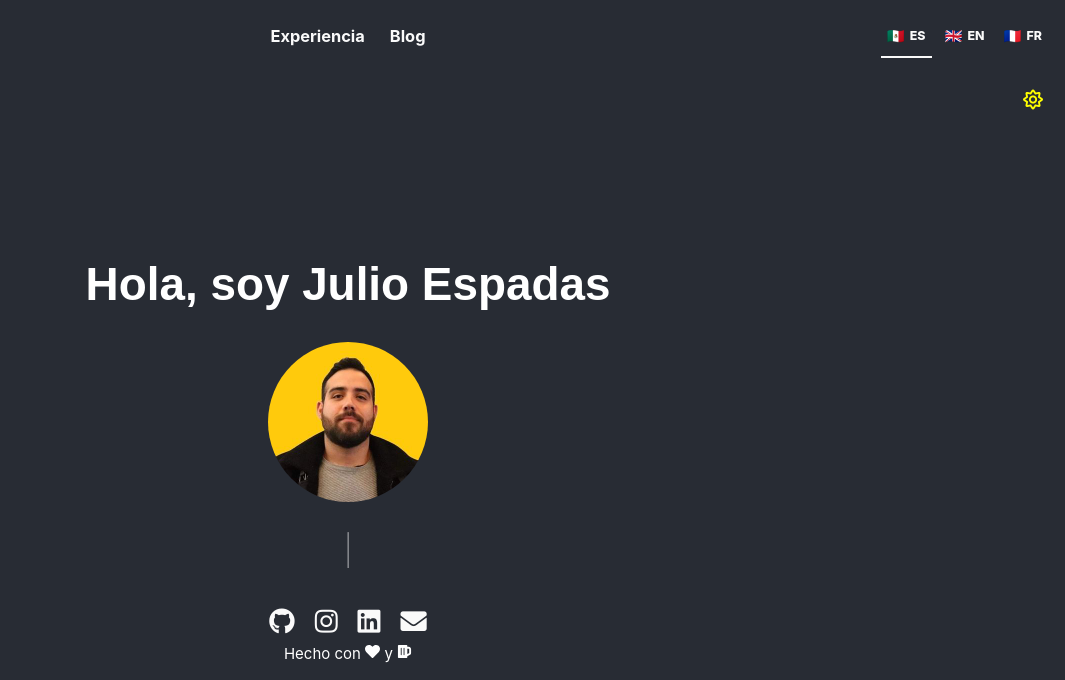
it: App › switches public copy between supported languages
The image size is (1065, 680).
Click the button "🇫🇷 FR" at (1023,38), box [998,18,1048,58]
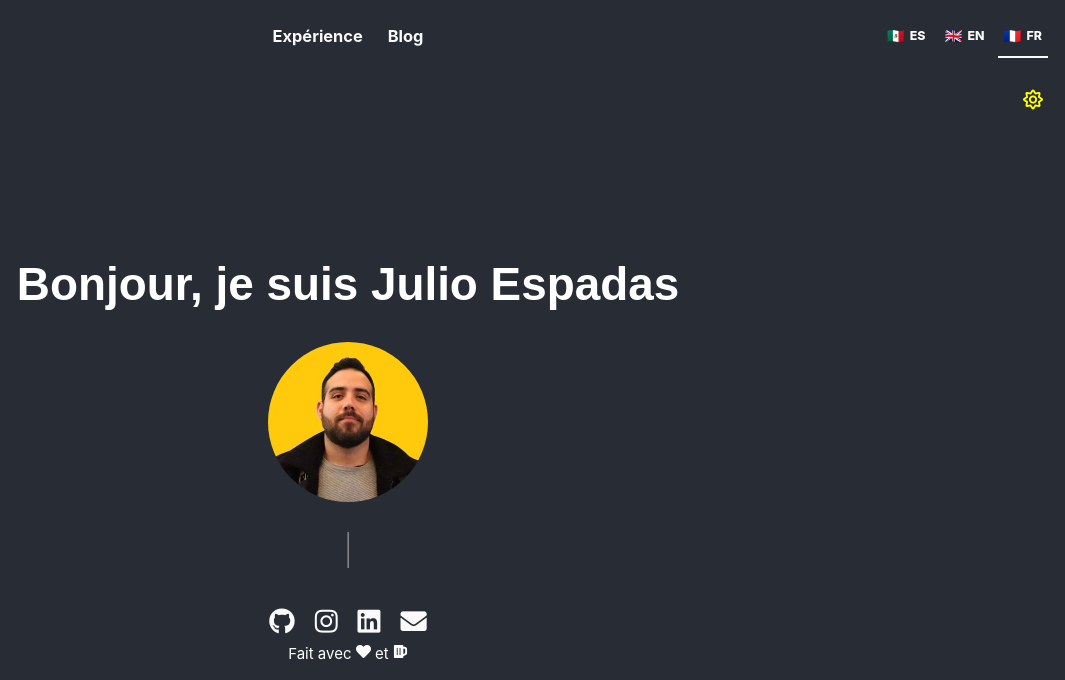
Expected: the heading "Bonjour, je suis Julio Espadas" is shown, [17,258,679,311]
Expected: the button "Expérience" is shown, [273,15,363,60]
Click the button "🇬🇧 EN" at (964,38), box [938,18,990,58]
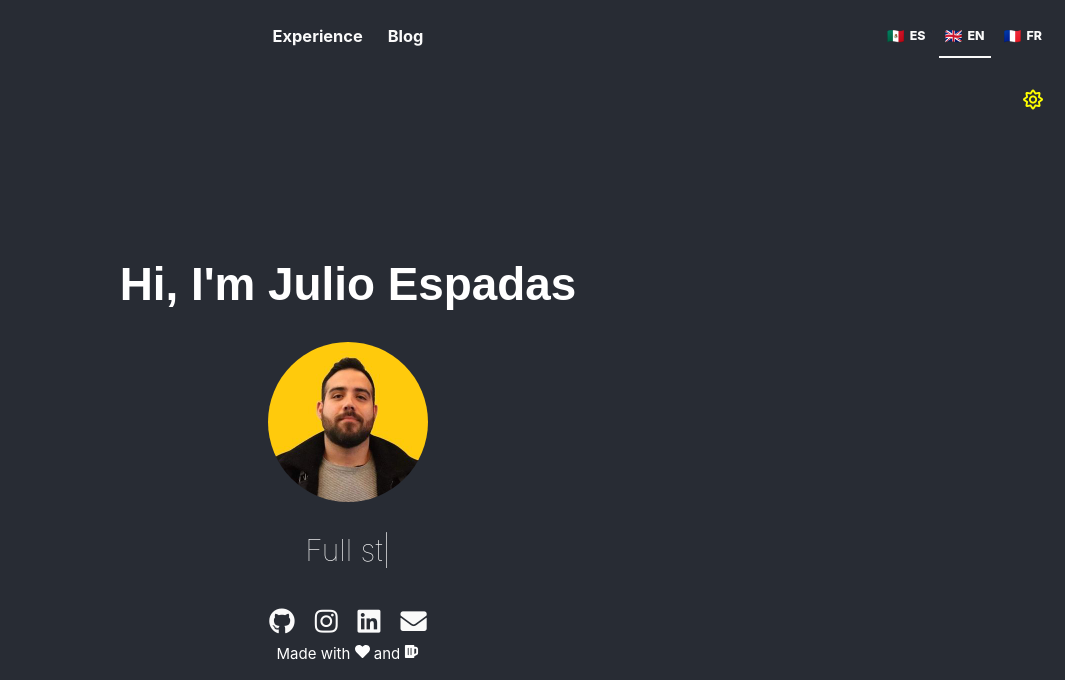
Expected: the button "Experience" is shown, [273,15,363,60]
Expected: the heading "Hi, I'm Julio Espadas" is shown, [120,258,576,311]
